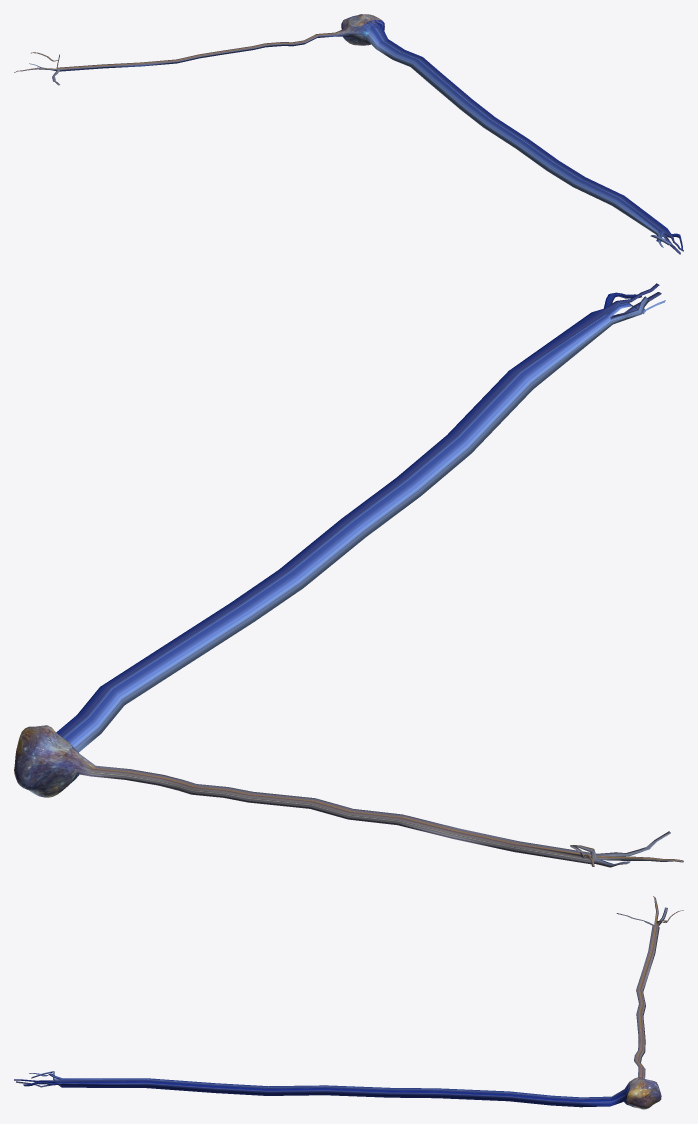
File: lastneuron18.fbx
The picture shows the model from 3 angles, top to bottom: view 1: azimuth 30°, elevation 25°; view 2: azimuth 150°, elevation 25°; view 3: azimuth 270°, elevation 25°; orthographic projection. The views are drawn at different scales.
Parts seen in each view (by area): view 1: principal.001 ex; view 2: principal.001 ex; view 3: principal.001 ex.
Boxes of the visible parts, x1,y1,x2,y2 form: principal.001 ex: [14, 14, 683, 254]; principal.001 ex: [14, 283, 683, 867]; principal.001 ex: [14, 896, 683, 1109].
Size of the model in its own units: 93523 by 13278 by 155469.
